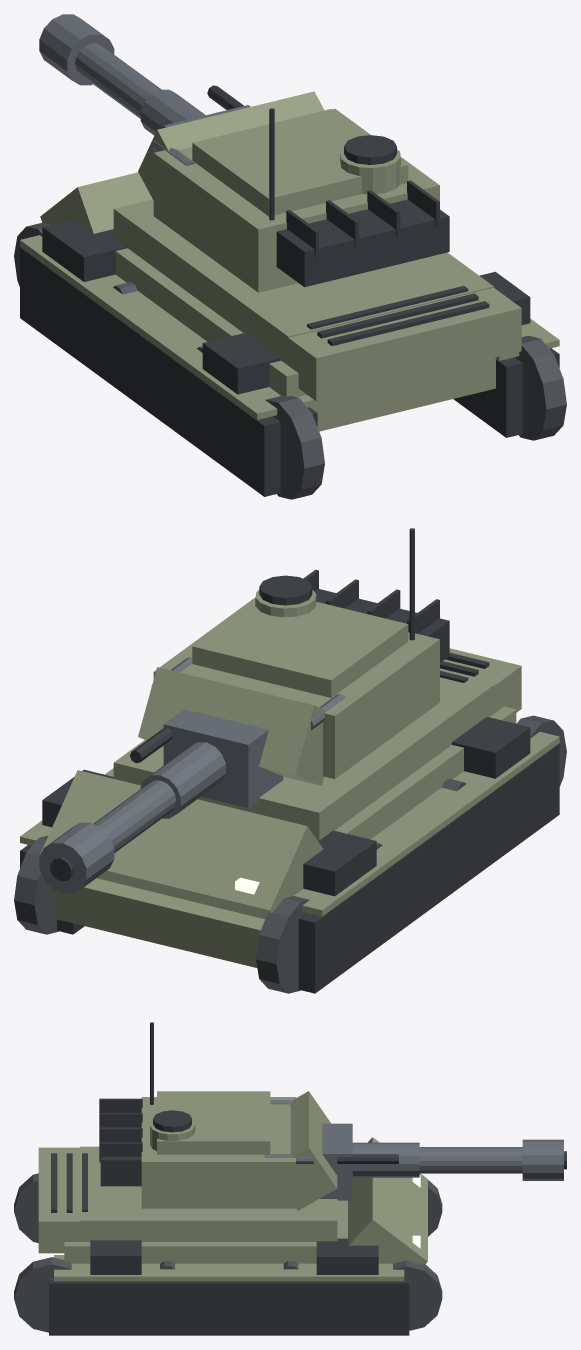
File: tank_heavy.glb
3 renders of one model, top to bottom at view 1: azimuth 30°, elevation 25°; view 2: azimuth 150°, elevation 25°; view 3: azimuth 270°, elevation 25°, orthographic. The views are drawn at different scales.
Parts seen in each view (by area): view 1: TankHull_heavy, TankTurret_heavy; view 2: TankHull_heavy, TankTurret_heavy; view 3: TankHull_heavy, TankTurret_heavy.
Boxes of the visible parts, left/top/right/bottom form: TankHull_heavy: left=14, top=172, right=566, bottom=499; TankTurret_heavy: left=39, top=14, right=449, bottom=292; TankHull_heavy: left=14, top=648, right=566, bottom=993; TankTurret_heavy: left=39, top=528, right=449, bottom=893; TankHull_heavy: left=14, top=1137, right=442, bottom=1335; TankTurret_heavy: left=99, top=1022, right=566, bottom=1210.
Bounding box in the file's own units: 2.5 × 2.56 × 5.37.
